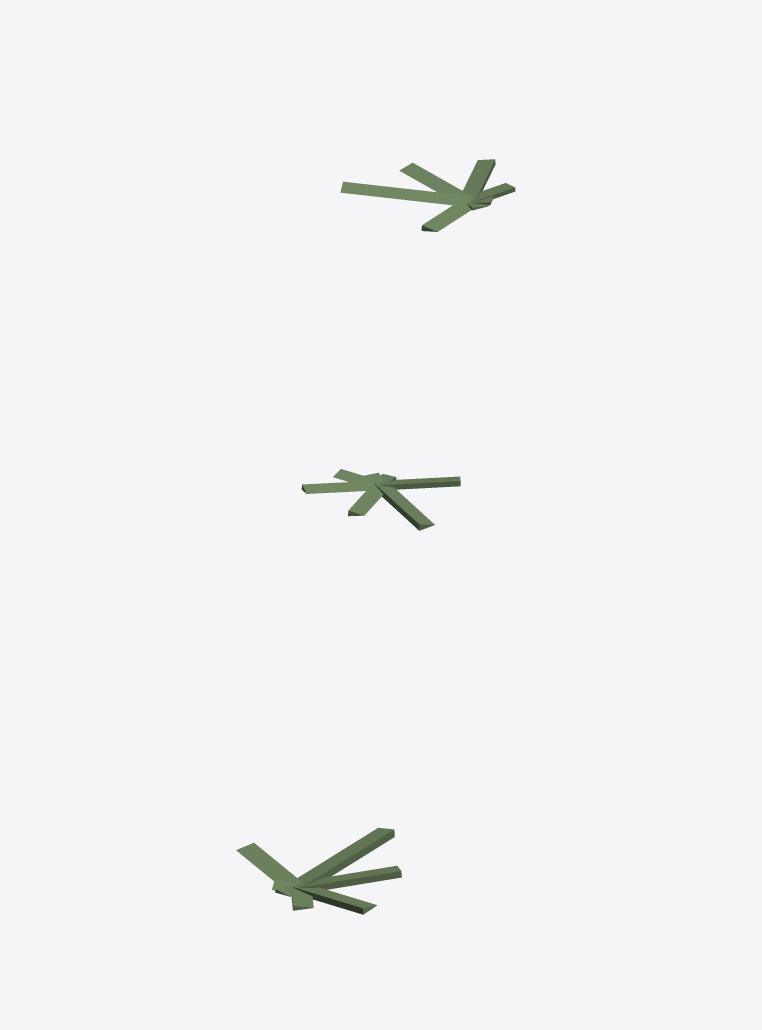
File: shui.pingpeng@subadult__summer.glb
3 renders of one model, top to bottom at view 1: azimuth 30°, elevation 25°; view 2: azimuth 150°, elevation 25°; view 3: azimuth 270°, elevation 25°, orthographic. The views are drawn at different scales.
Visible parts, largest first — view 1: shui.pingpeng@subadult__summer; view 2: shui.pingpeng@subadult__summer; view 3: shui.pingpeng@subadult__summer.
Boxes of the visible parts, left/top/right/bottom form: shui.pingpeng@subadult__summer: left=340, top=159, right=515, bottom=231; shui.pingpeng@subadult__summer: left=301, top=469, right=460, bottom=530; shui.pingpeng@subadult__summer: left=236, top=827, right=401, bottom=914.
Bounding box in the file's own units: 0.7031 × 0.0266 × 0.6338.
